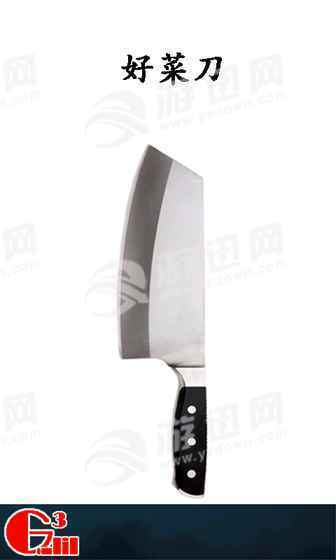knief: (121, 113, 223, 495)
